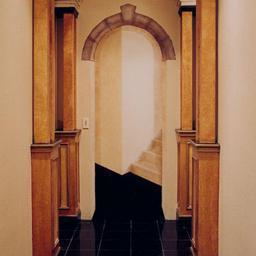Escaleras: (127, 127, 164, 184)
